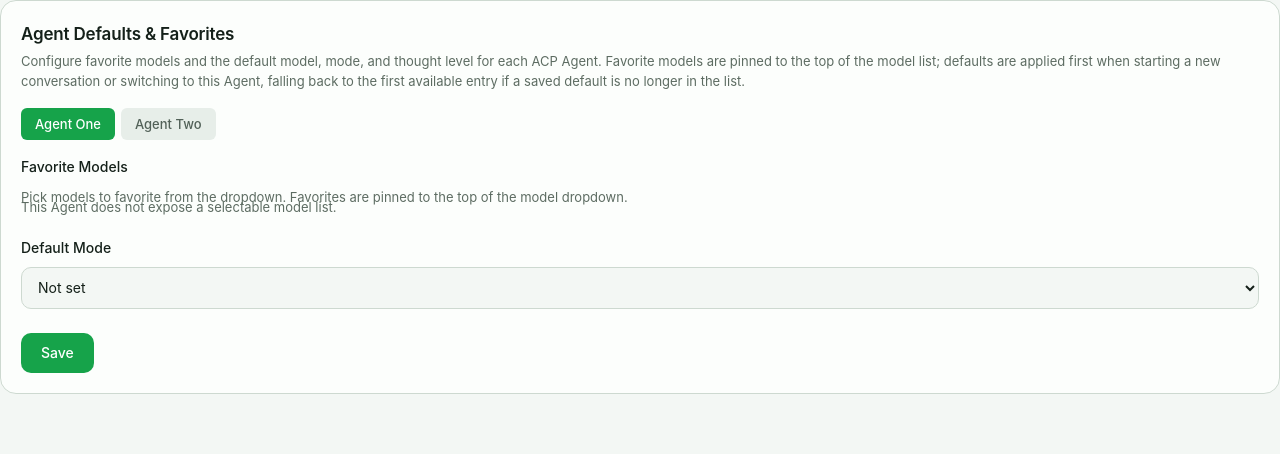
Scenario: Agent settings load guards › saves only the Agent whose defaults were changed
The width and height of the screenshot is (1280, 454).
Expected: the button with test id "agent-defaults-save-button" is disabled, 21,332 -> 94,372
Select "Auto" in the dropdown at (640, 288), box 21,266 -> 1259,308
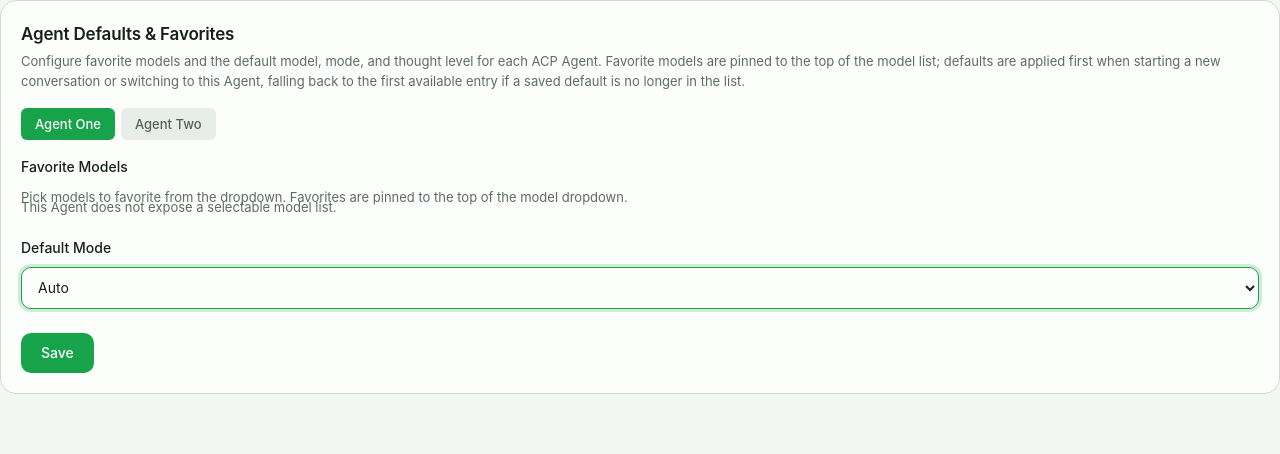
Click the button with test id "agent-defaults-save-button" at (57, 352), box 21,332 -> 94,372
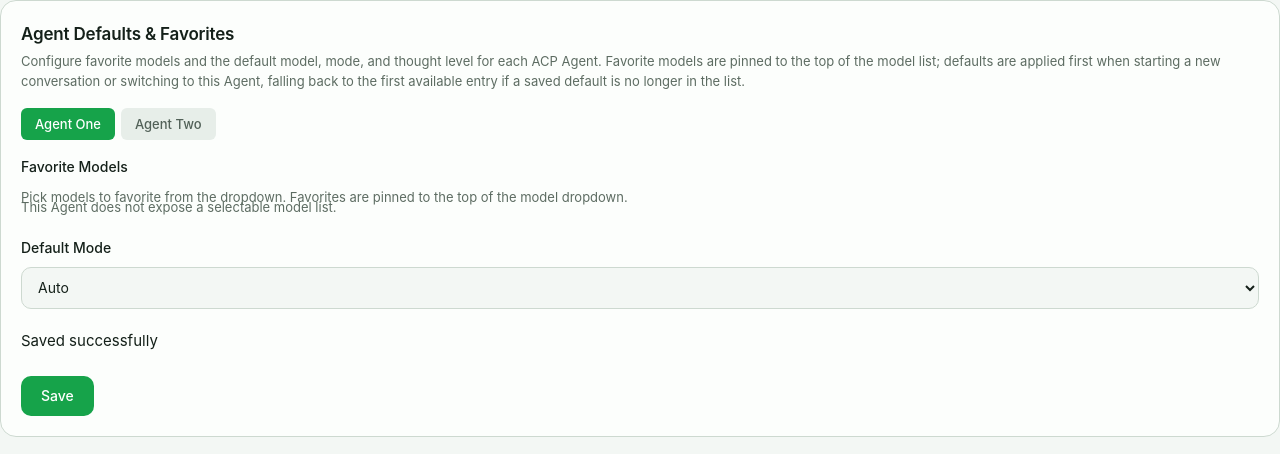
Result: the text "Saved successfully" is shown at 21,330 -> 158,350
Result: the button with test id "agent-defaults-save-button" is disabled at 21,376 -> 94,416
